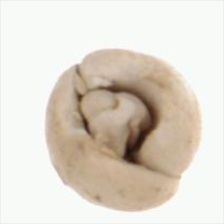L3: (74, 78, 156, 170)
L4: (44, 48, 202, 213)
